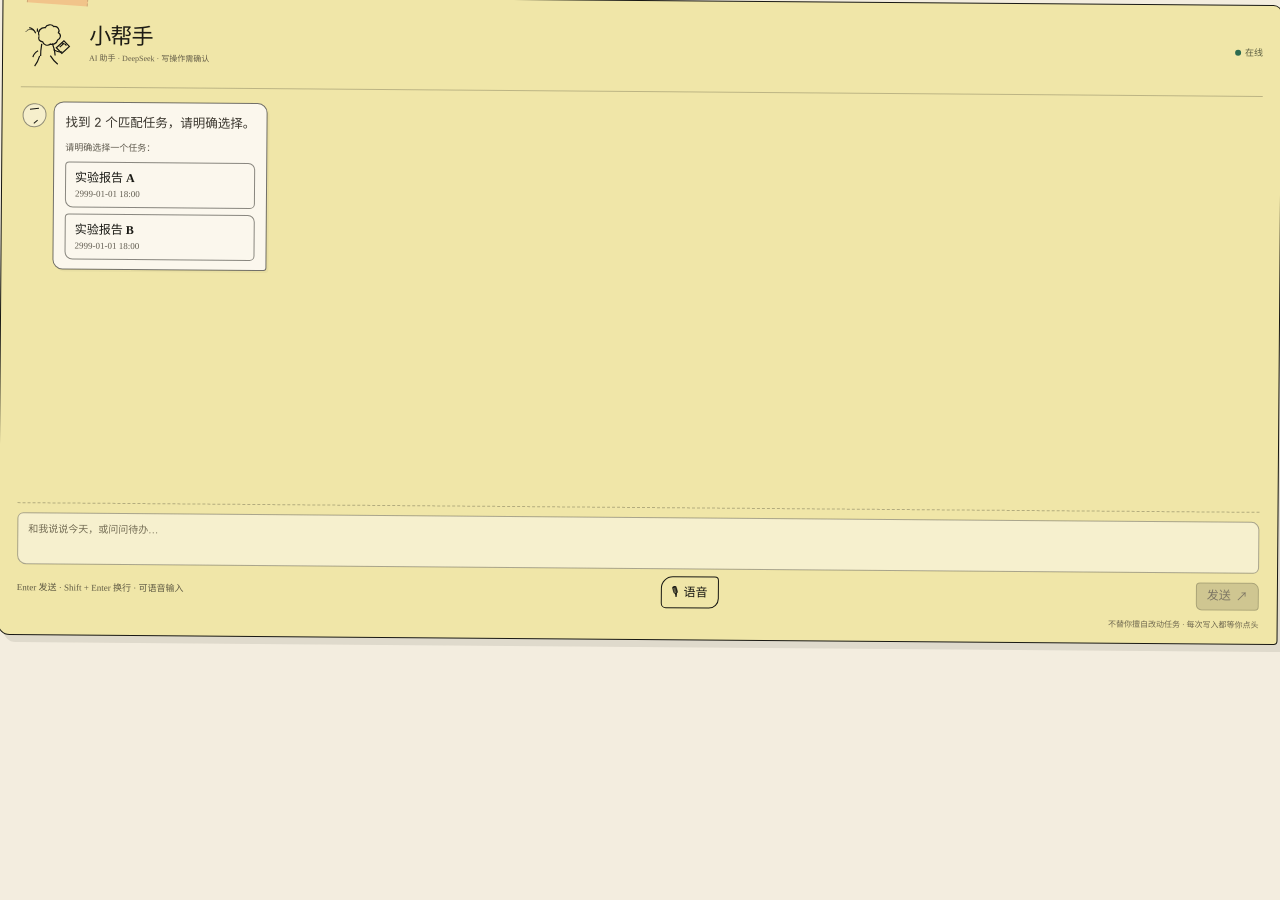
Test case: AssistantPanel › sends source_message_id when selecting a persisted candidate
This screenshot has width=1280, height=900.
expect the text box named "给 AI 助手发送消息" is enabled: met, box [17, 512, 1260, 574]
Click the button "实验报告 A 2999-01-01 18:00".
click(160, 186)  # box [65, 162, 255, 209]
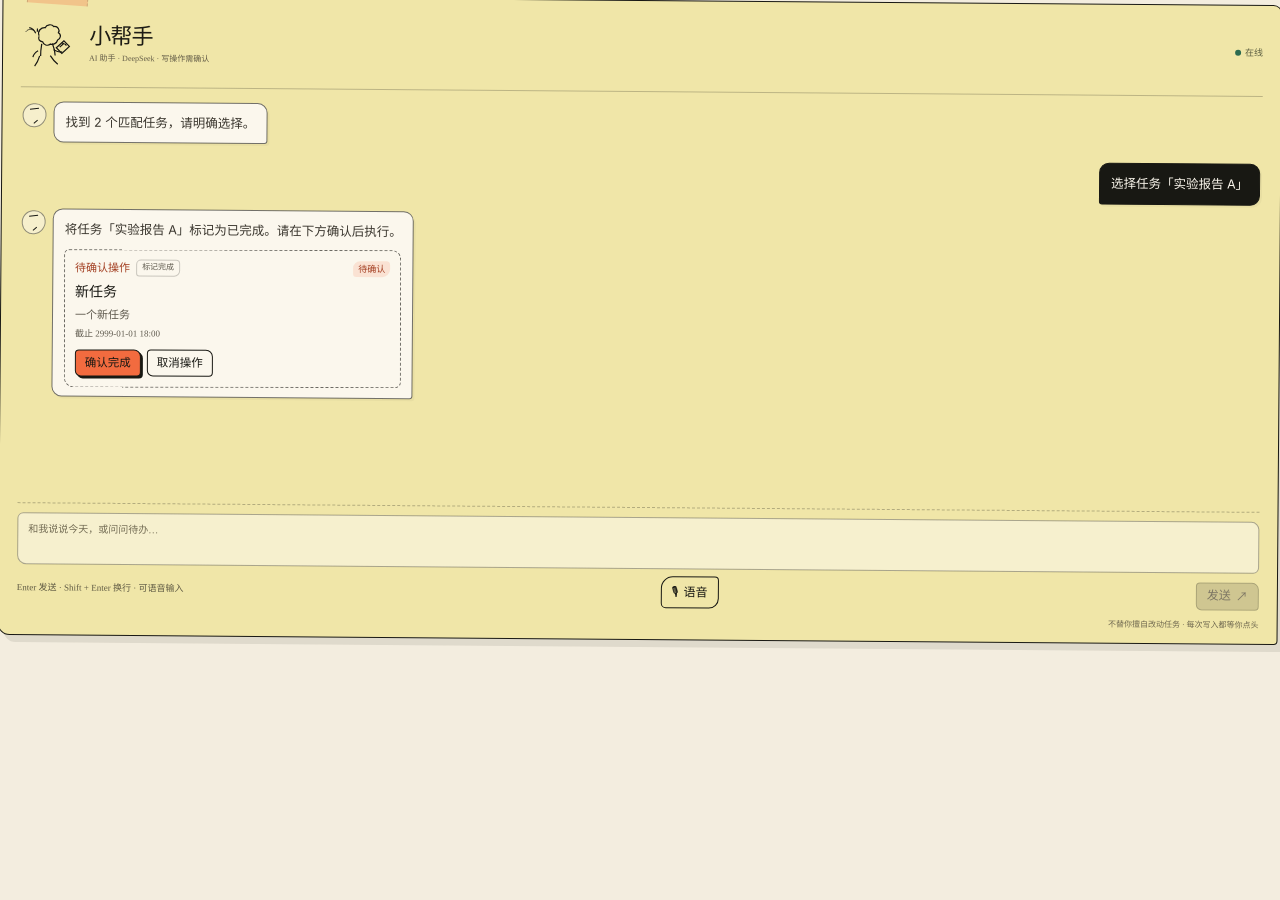
expect the text "待确认操作" is shown: met, box [75, 259, 130, 276]
